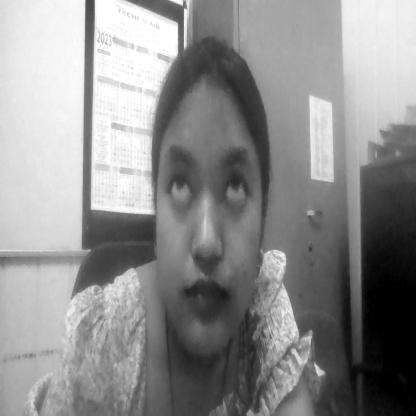Normal: (159, 89, 254, 333)
